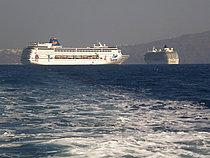Ship: (18, 37, 133, 68), (141, 44, 185, 68)
